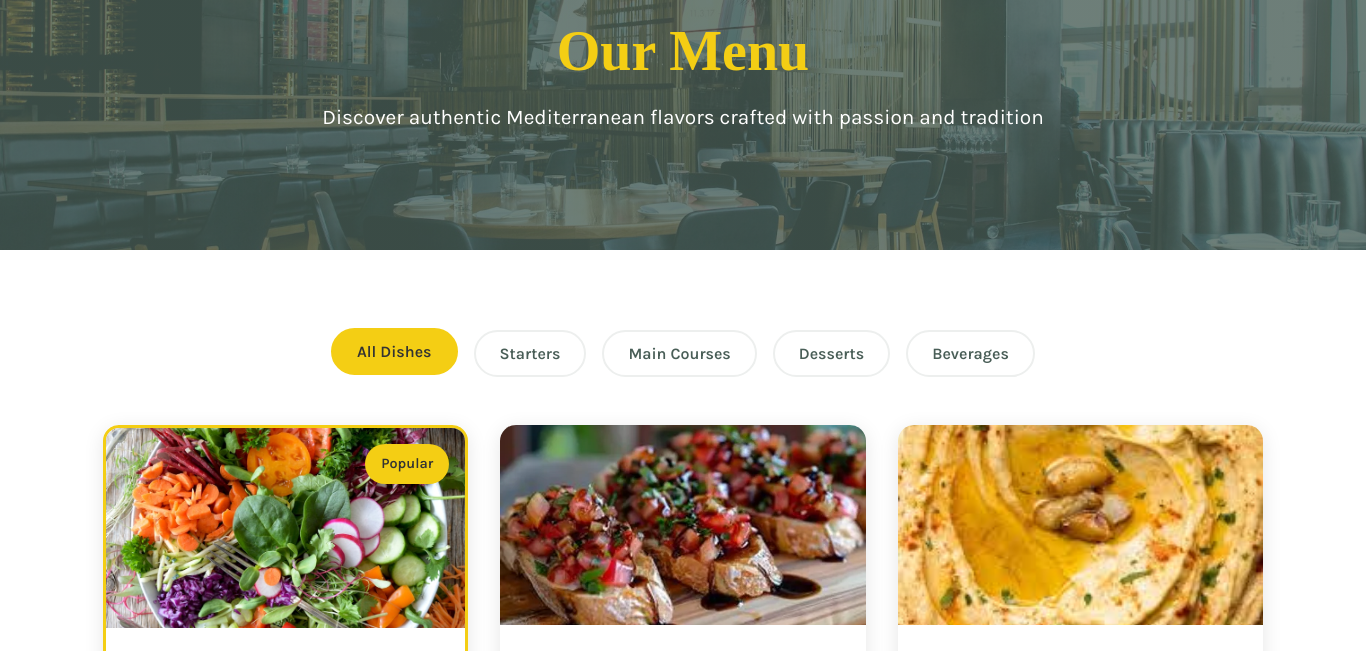
Test case: Menu Page › category filtering works correctly
Note: Click on Starters category
What coordinates should you click on to do the following:
click the button "Starters"
I would click on:
 (530, 354)
Its box is [474, 330, 586, 378].
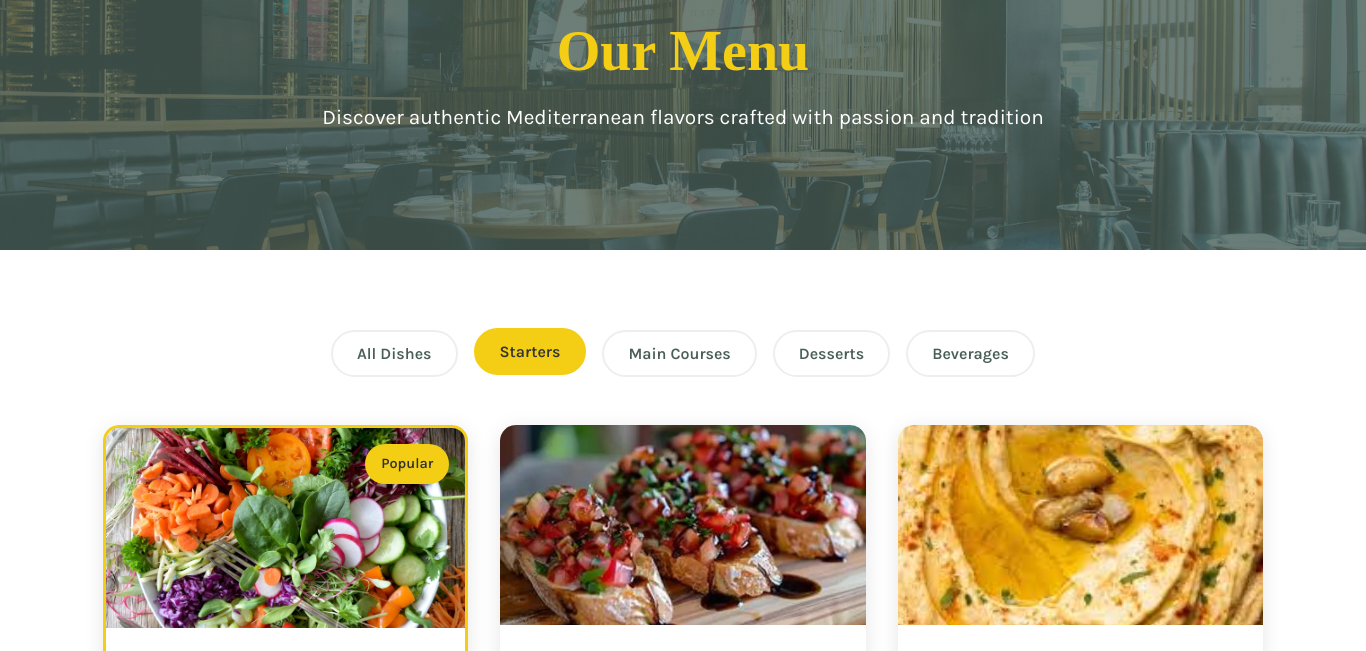
Note: Click on Main Courses category
What coordinates should you click on to do the following:
click the button "Main Courses"
I would click on:
 (680, 354)
Its box is [602, 330, 757, 378].
(page scrolled)
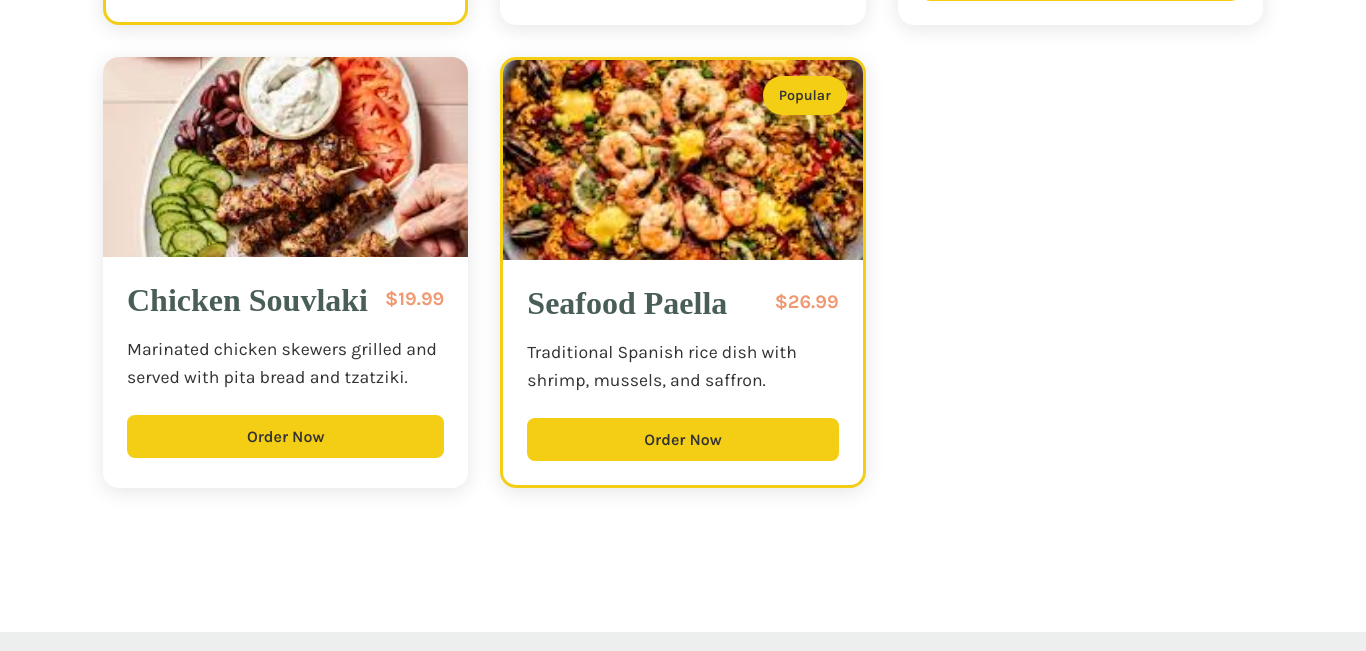
Check: the heading "Chicken Souvlaki" is shown, box [127, 281, 368, 319]
Check: the heading "Seafood Paella" is shown, box [527, 284, 727, 322]
